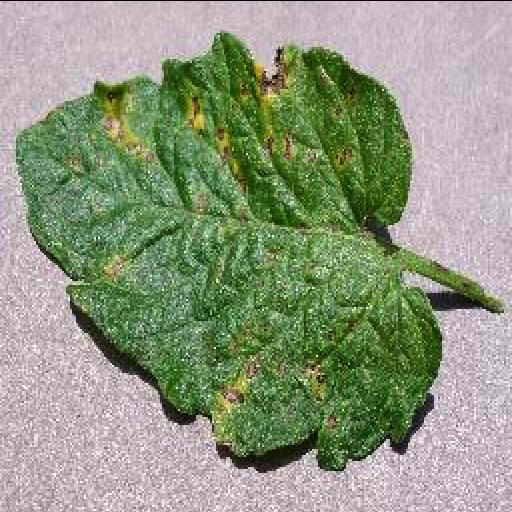disease_tomato: (12, 30, 442, 472)
